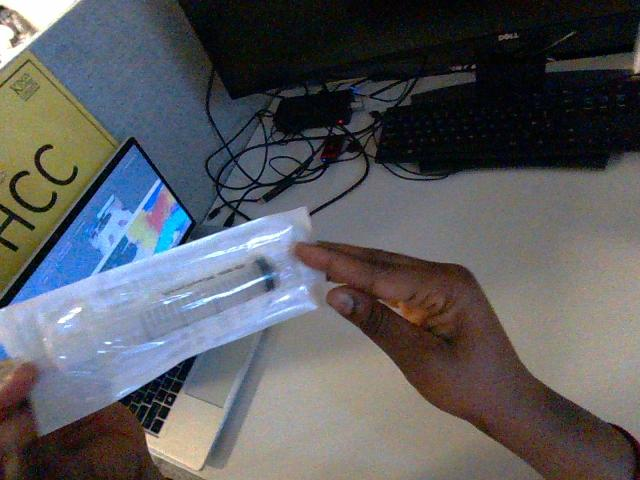syringe: (0, 209, 319, 433)
